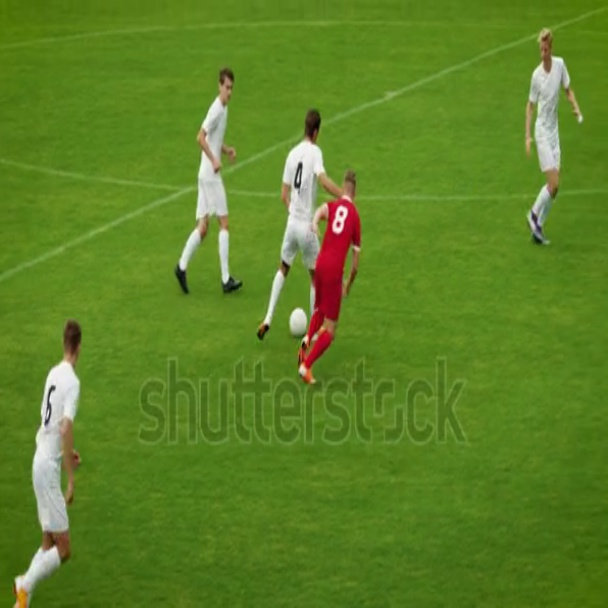ball: (292, 304, 308, 339)
